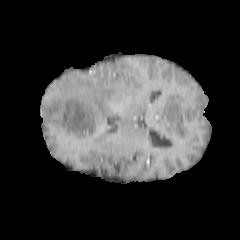glioma: (42, 67, 118, 133)
